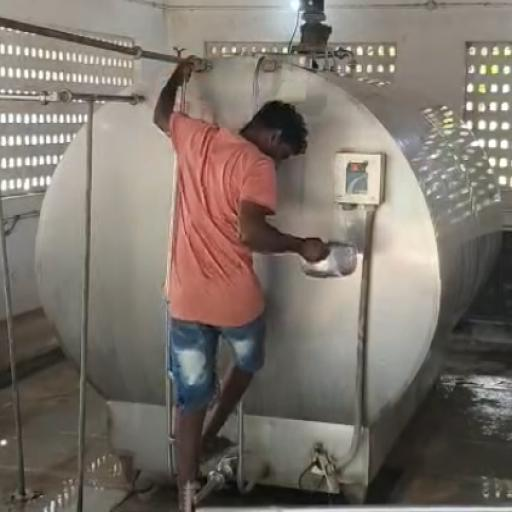silo: (34, 52, 505, 499)
vessel: (299, 240, 358, 279)
